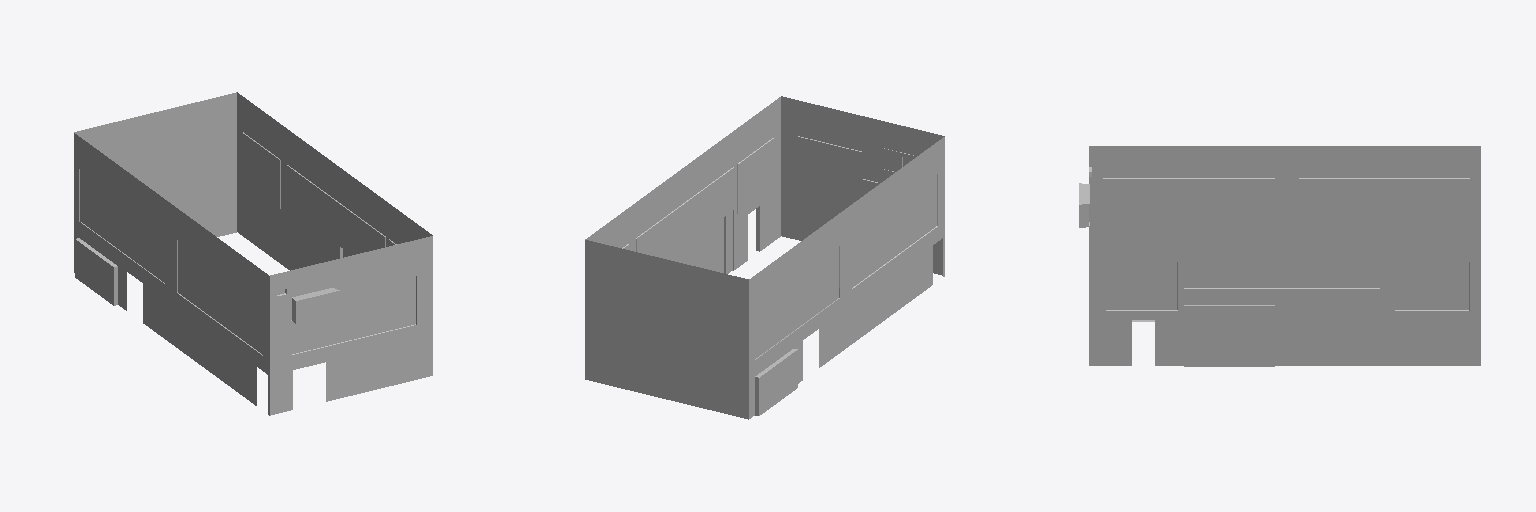
The model's file is MainWallsFloor.obj.
The picture shows the model from 3 angles: view 1: azimuth 30°, elevation 25°; view 2: azimuth 150°, elevation 25°; view 3: azimuth 270°, elevation 25°; orthographic projection.
Parts seen in each view (by area): view 1: MainWallsFloorNoDoor; view 2: MainWallsFloorNoDoor; view 3: MainWallsFloorNoDoor.
Part boxes in pixels (bbox=[...]): MainWallsFloorNoDoor: bbox=[74, 92, 432, 415]; MainWallsFloorNoDoor: bbox=[585, 96, 944, 419]; MainWallsFloorNoDoor: bbox=[1079, 146, 1480, 366].
Bounding box in the file's own units: 9.83 × 7.65 × 19.92.